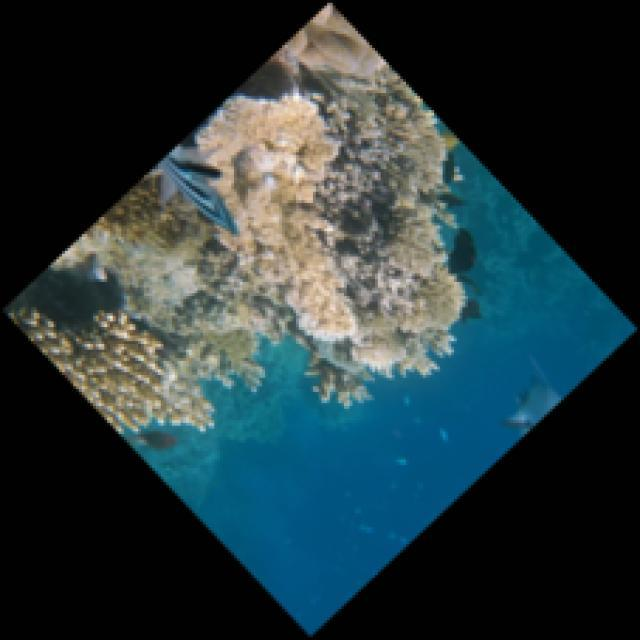Dead Coral: (88, 161, 236, 259)
